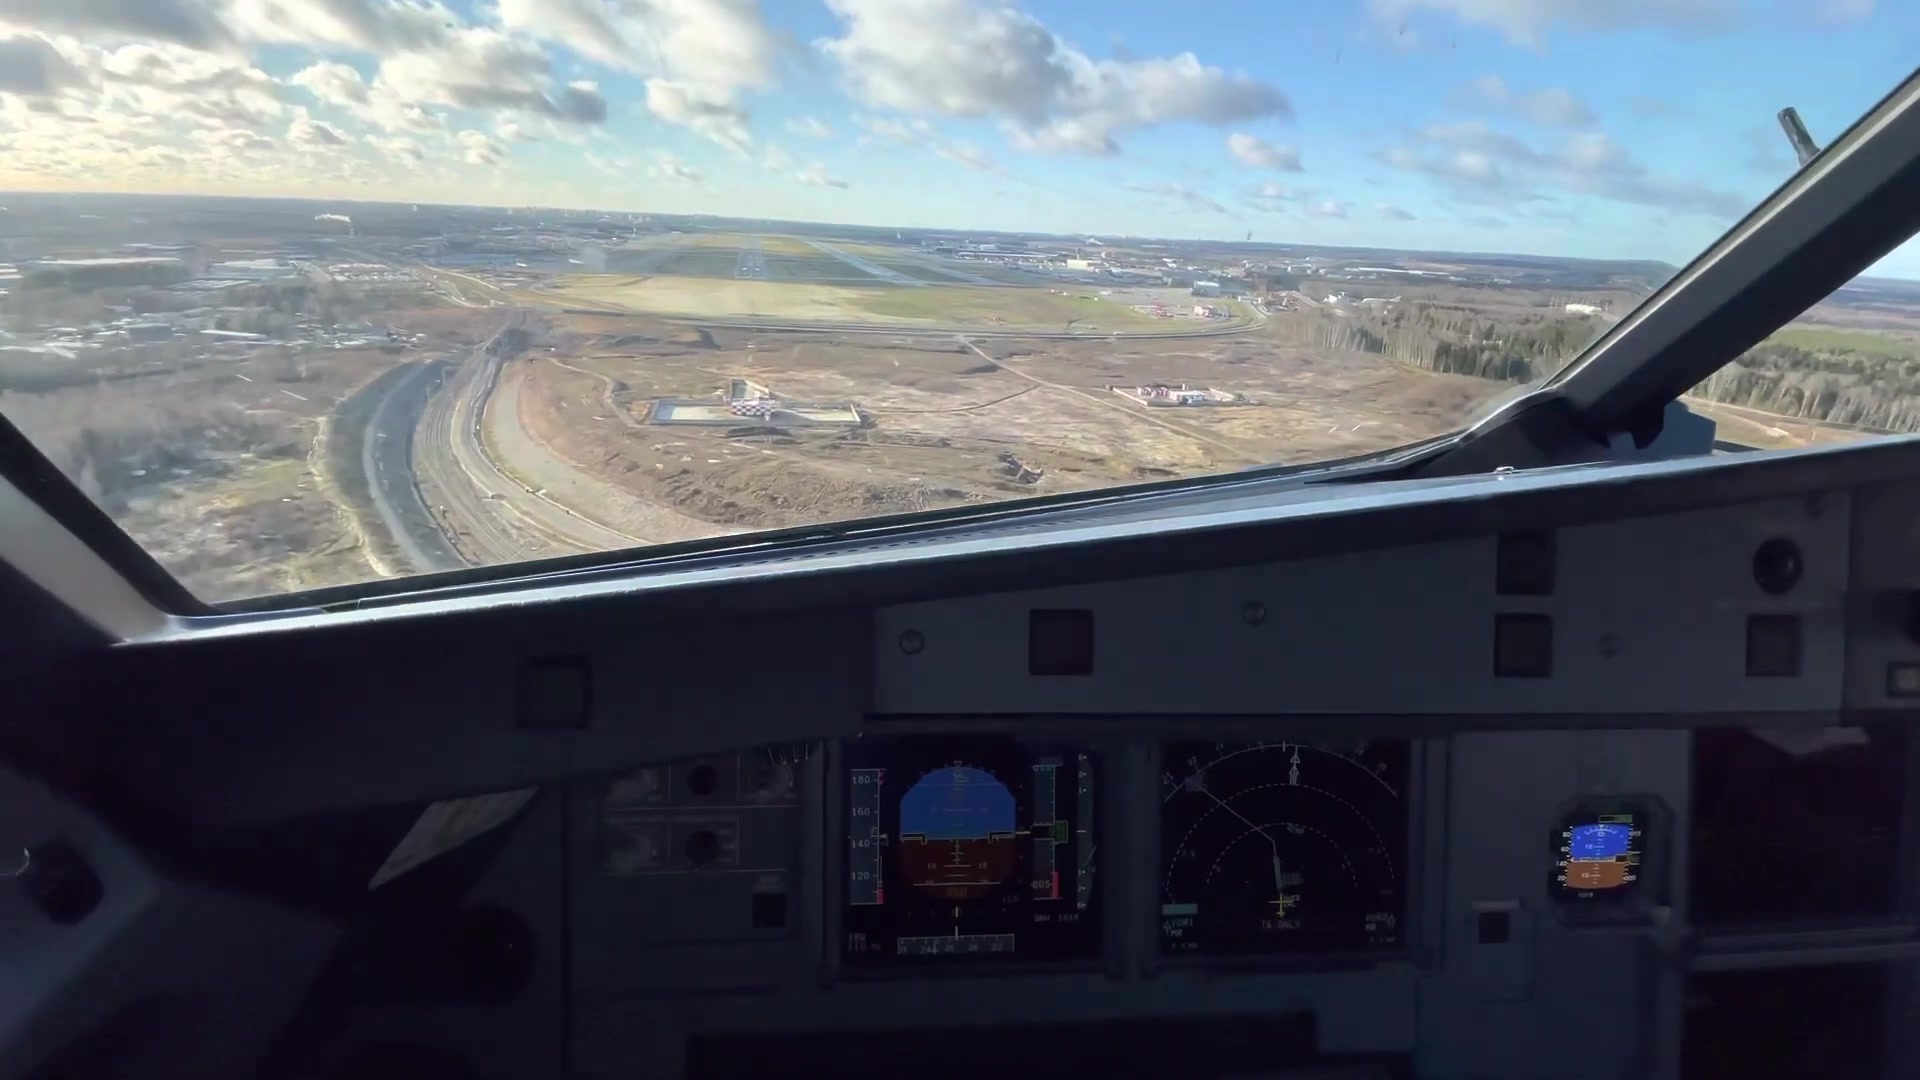runway: (731, 236, 771, 281)
